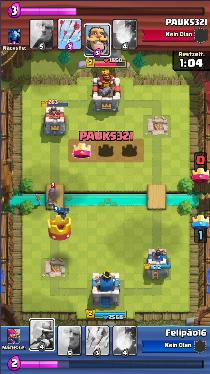ally_mini_pekka: (53, 209, 70, 220)
enemy_musketeer: (45, 187, 59, 206)
